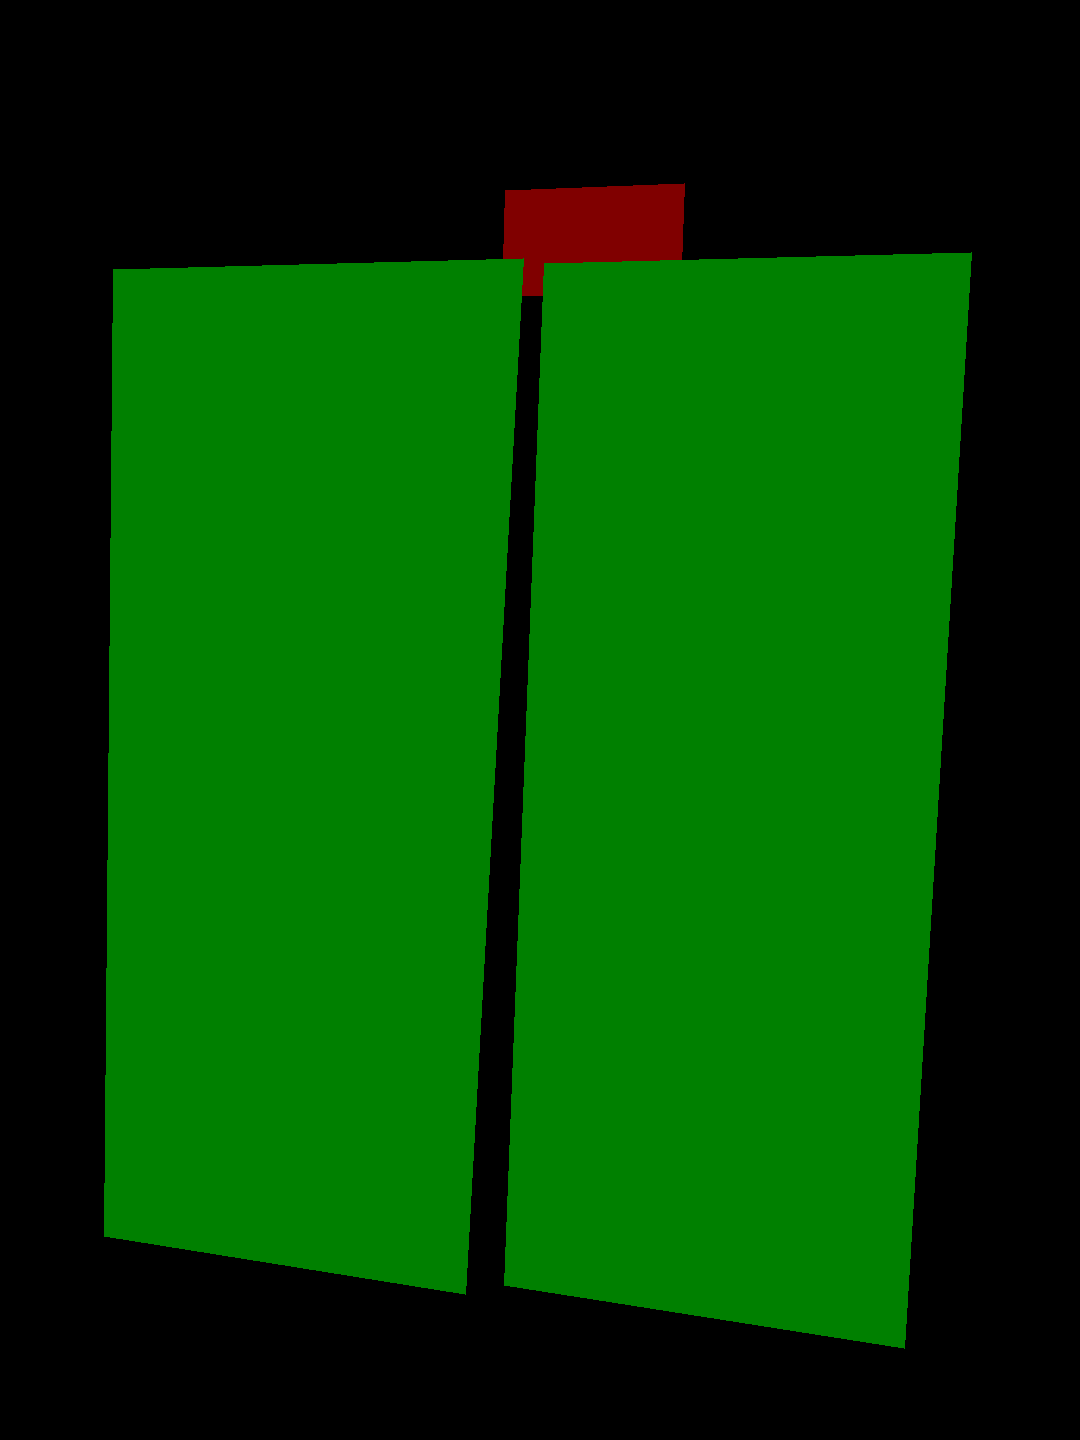door: (504, 252, 971, 1348), (104, 259, 523, 1294)
sign: (680, 567, 902, 715), (503, 183, 684, 296), (338, 600, 402, 667)
